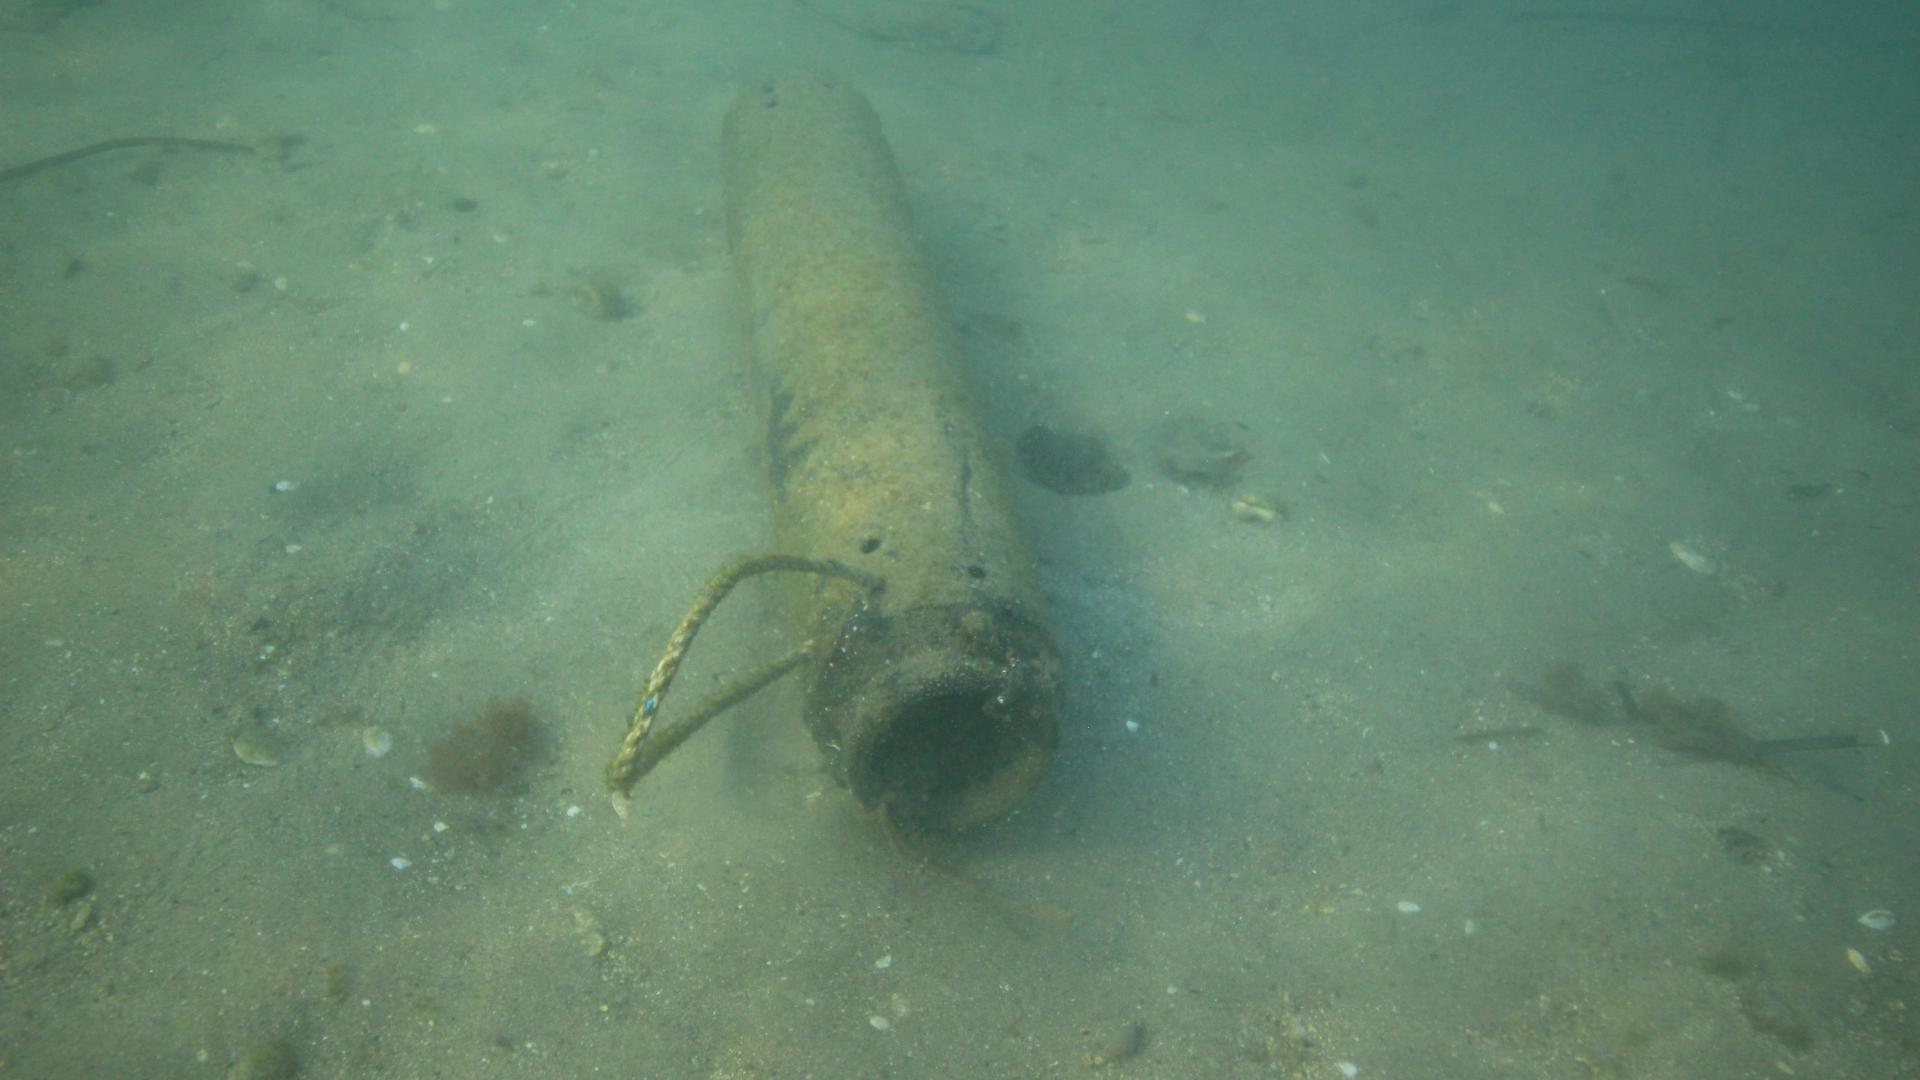eel fish trap: (716, 69, 1065, 833)
rope: (607, 549, 884, 793)
